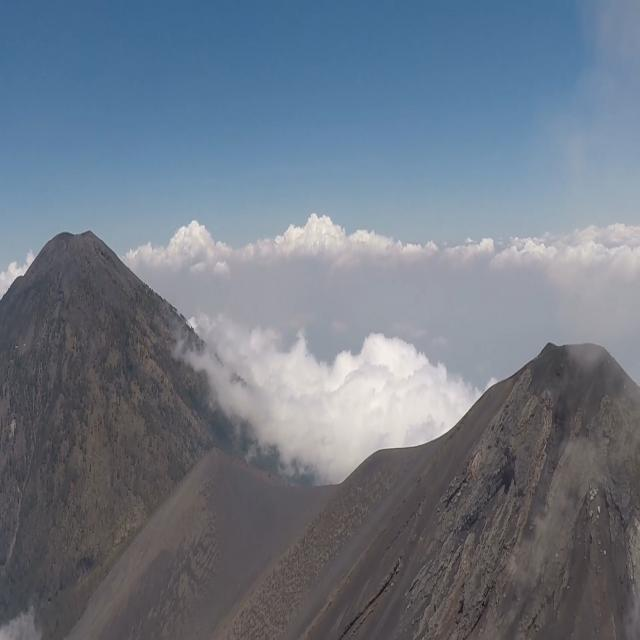Summit: (314, 329, 640, 640)
